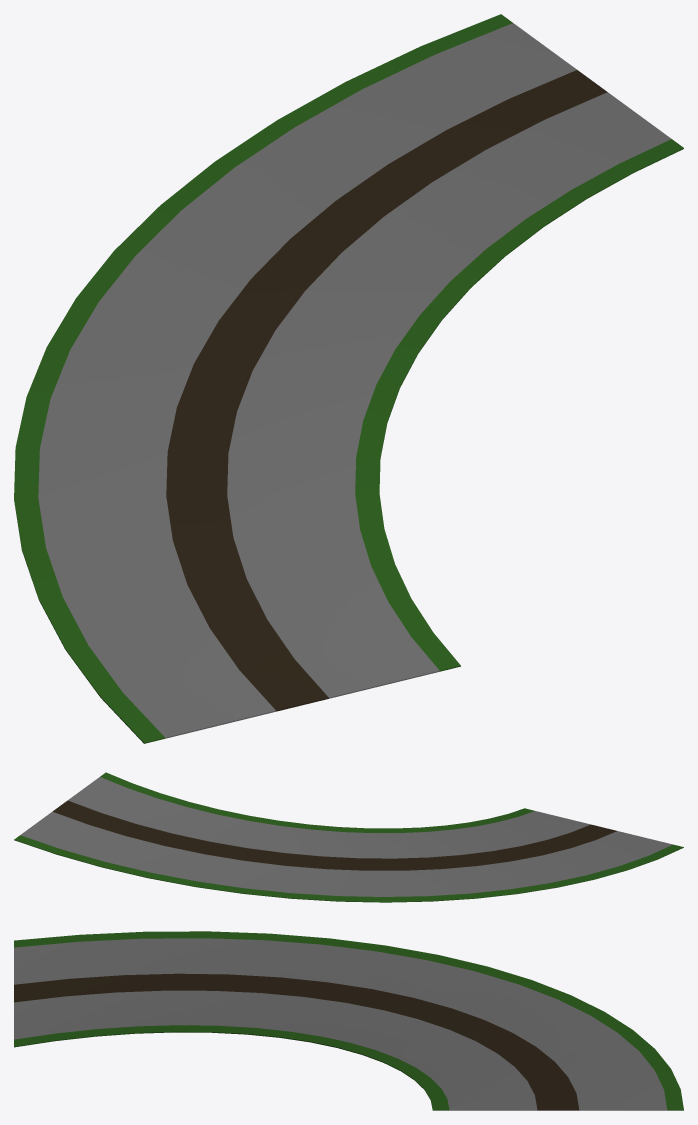
The model's file is sweethome3d-contributions-quarter-slope-484.glb.
3 renders of one model, top to bottom at view 1: azimuth 30°, elevation 25°; view 2: azimuth 150°, elevation 25°; view 3: azimuth 270°, elevation 25°, orthographic. The views are drawn at different scales.
Parts seen in each view (by area): view 1: exteriorPath, interiorPath, middlePath_middlePath.001, exteriorBorder, interiorBorder; view 2: exteriorPath, interiorPath, middlePath_middlePath.001, exteriorBorder, interiorBorder; view 3: exteriorPath, interiorPath, middlePath_middlePath.001, exteriorBorder, interiorBorder.
Boxes of the visible parts, x1,y1,x2,y2 form: exteriorPath: (38,23,576,738); interiorPath: (227,92,671,698); middlePath_middlePath.001: (166,70,607,711); exteriorBorder: (14,14,512,743); interiorBorder: (355,139,683,671); exteriorPath: (20,811,672,896); interiorPath: (68,777,590,858); middlePath_middlePath.001: (53,800,616,870); exteriorBorder: (14,835,683,902); interiorBorder: (100,772,534,832); exteriorPath: (14,938,667,1110); interiorPath: (14,990,537,1110); middlePath_middlePath.001: (14,973,579,1110); exteriorBorder: (14,931,683,1110); interiorBorder: (14,1025,449,1110).
Bounding box in the file's own units: 8 × 1.51 × 8.
